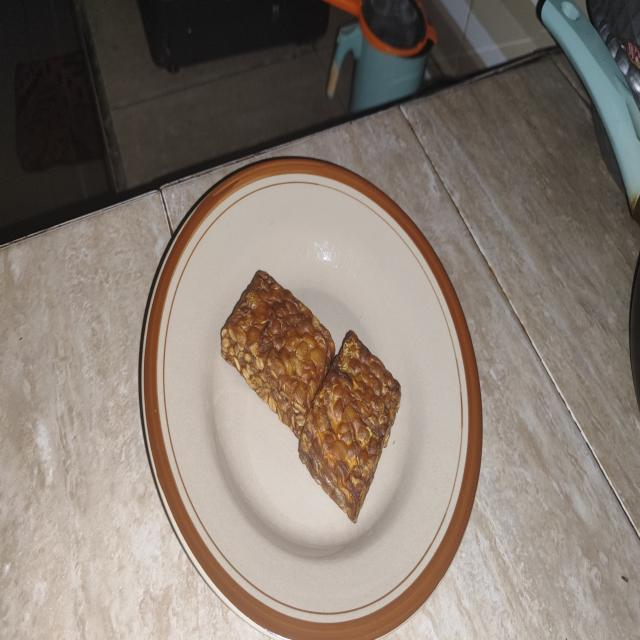tempe_goreng: (298, 331, 401, 522), (221, 270, 335, 437)
